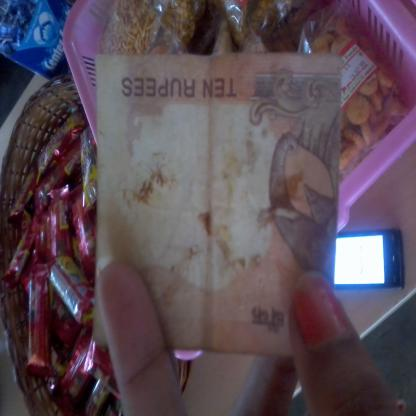Old10Back: (92, 54, 342, 350)
